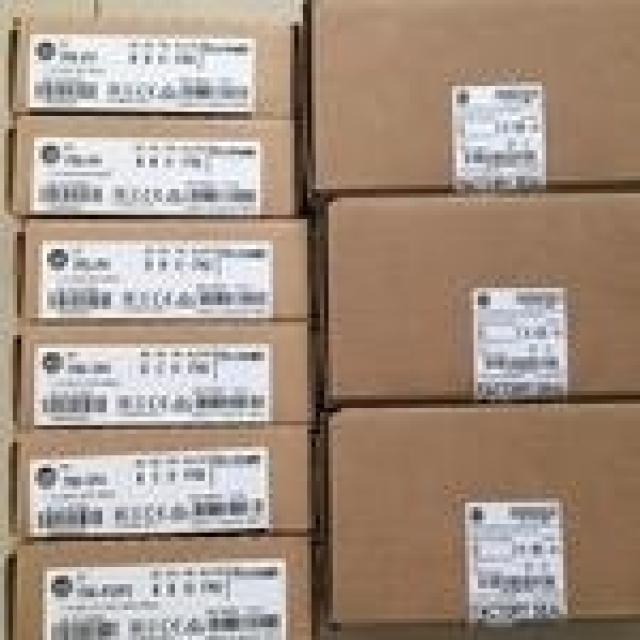box: (329, 404, 640, 627), (299, 0, 640, 198), (324, 193, 640, 399), (0, 425, 329, 541), (9, 219, 316, 331), (4, 322, 316, 430), (0, 541, 329, 640), (0, 112, 303, 219), (0, 13, 294, 120)
